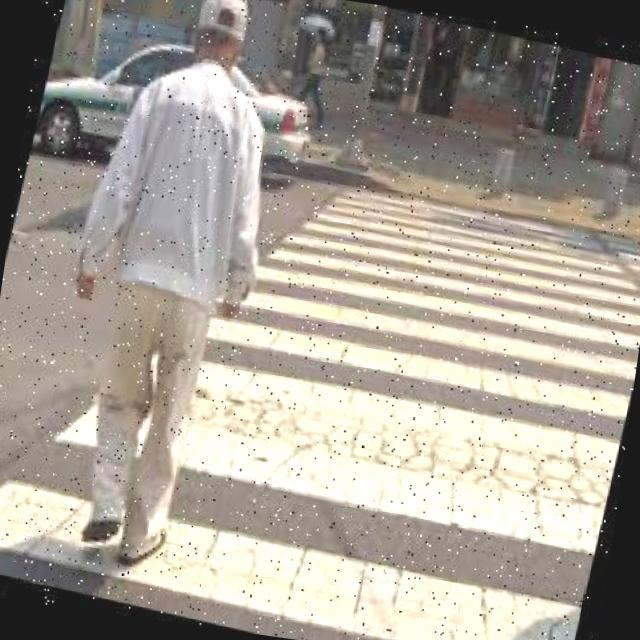Person: (15, 0, 316, 582)
